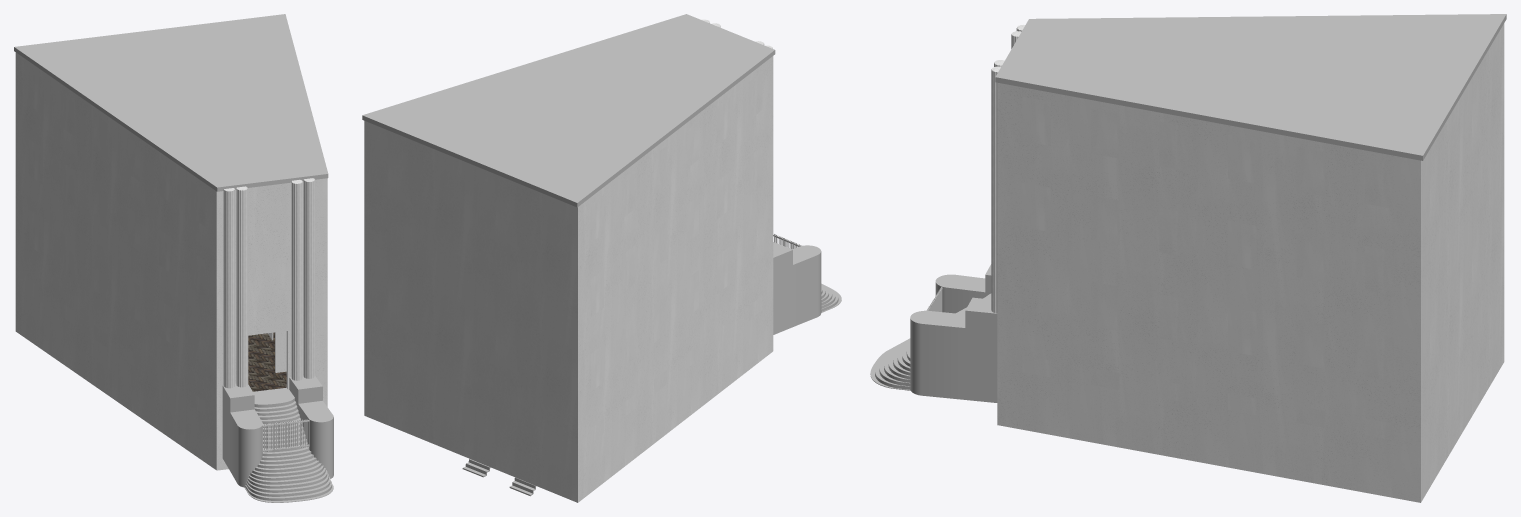
File: biblioteca 1er piso.fbx
3 views of the same model, side by side, from view 1: azimuth 30°, elevation 25°; view 2: azimuth 150°, elevation 25°; view 3: azimuth 270°, elevation 25° (orthographic). The views are drawn at different scales.
Parts seen in each view (by area): view 1: path1086, path1086.008, path1086.002, path1812, Cylinder, Cylinder.003, Cylinder.004, Cylinder.005, Cylinder.002, path1086.010, Cylinder.006, path1086.003; view 2: path1086, path1086.008, path1086.002, Cylinder, Plane.004; view 3: path1086, path1086.008, path1086.002, Cylinder, Cylinder.005, path1812.
Boxes of the visible parts, <box> form: path1086: <box>15,52,327,470</box>; path1086.008: <box>14,14,328,191</box>; path1086.002: <box>28,69,205,415</box>; path1812: <box>244,387,333,502</box>; Cylinder: <box>222,375,333,487</box>; Cylinder.003: <box>236,186,247,387</box>; Cylinder.004: <box>291,179,302,380</box>; Cylinder.005: <box>303,178,314,378</box>; Cylinder.002: <box>223,188,234,388</box>; path1086.010: <box>248,332,286,391</box>; Cylinder.006: <box>262,419,309,452</box>; path1086.003: <box>275,331,286,372</box>; path1086: <box>364,56,773,502</box>; path1086.008: <box>362,14,775,207</box>; path1086.002: <box>590,72,762,442</box>; Cylinder: <box>773,242,821,334</box>; Plane.004: <box>462,459,536,496</box>; path1086: <box>997,23,1504,502</box>; path1086.008: <box>995,14,1506,160</box>; path1086.002: <box>1022,96,1393,440</box>; Cylinder: <box>910,264,997,402</box>; Cylinder.005: <box>991,66,1000,313</box>; path1812: <box>870,293,991,390</box>.
Bounding box in the file's own units: 2155 × 2730 × 4012.
